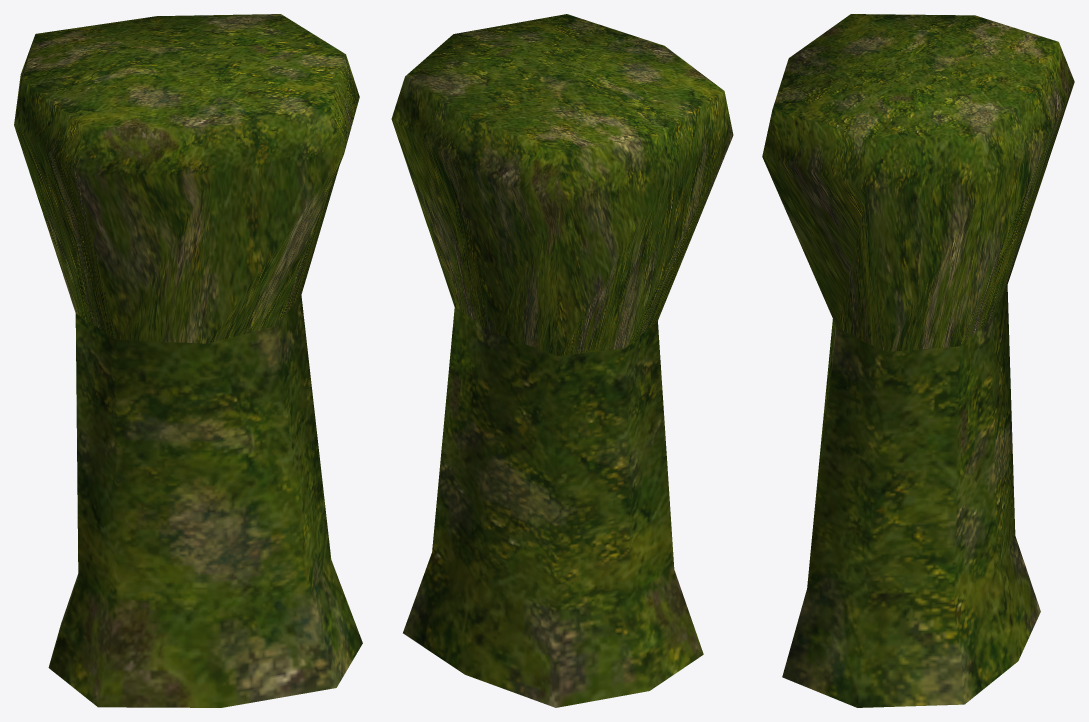
Rendered from OVERHILL_A_01_PLATFORM_501.fbx.
The picture shows the model from 3 angles, left to right: view 1: azimuth 30°, elevation 25°; view 2: azimuth 150°, elevation 25°; view 3: azimuth 270°, elevation 25°; orthographic projection. The views are drawn at different scales.
Parts seen in each view (by area): view 1: OVERHILL_A_01_PLATFORM_501; view 2: OVERHILL_A_01_PLATFORM_501; view 3: OVERHILL_A_01_PLATFORM_501.
Part boxes in pixels (x1,y1,x2,y2): OVERHILL_A_01_PLATFORM_501: (14, 14, 362, 707); OVERHILL_A_01_PLATFORM_501: (391, 14, 733, 707); OVERHILL_A_01_PLATFORM_501: (762, 14, 1074, 707).
Bounding box in the file's own units: 13598 × 26665 × 13134.
Materials: 1 (1 with a texture image).
